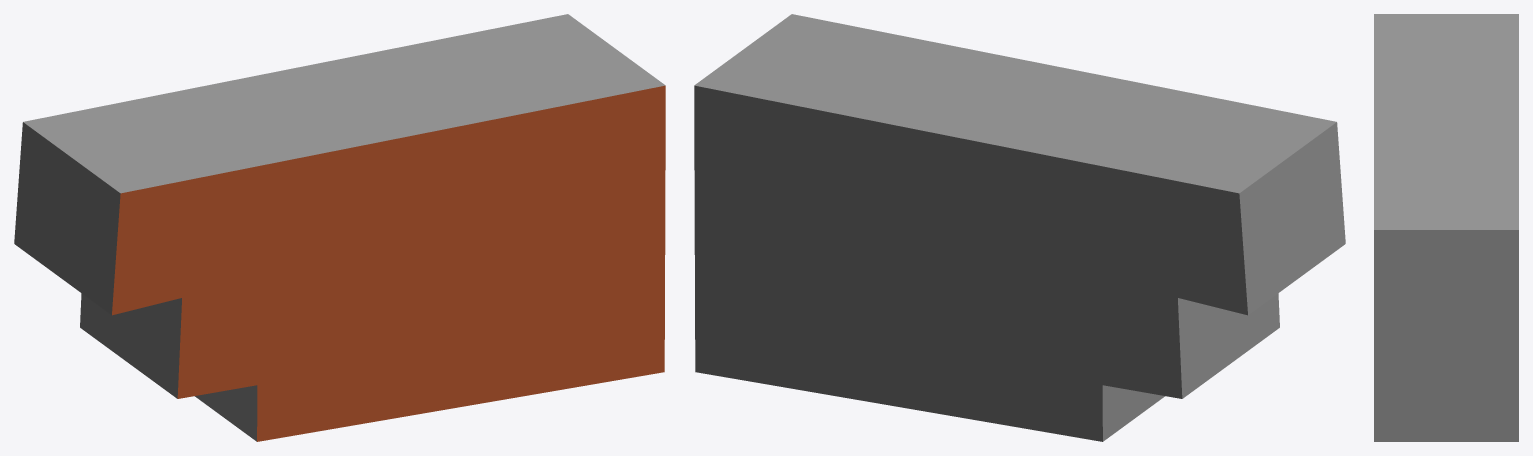
Rendered from construction_5077_assumed_A_Casa_h6m.obj.
3 views of the same model, side by side, from view 1: azimuth 30°, elevation 25°; view 2: azimuth 150°, elevation 25°; view 3: azimuth 270°, elevation 25° (orthographic). The views are drawn at different scales.
Parts seen in each view (by area): view 1: construction_5077_assumed_A_Casa; view 2: construction_5077_assumed_A_Casa; view 3: construction_5077_assumed_A_Casa.
Boxes of the visible parts, box(x1,y1,x2,y2) form: construction_5077_assumed_A_Casa: box(14, 14, 665, 441); construction_5077_assumed_A_Casa: box(694, 14, 1345, 441); construction_5077_assumed_A_Casa: box(1374, 14, 1518, 441).
Size of the model in its own units: 19.64 by 10.55 by 6.
